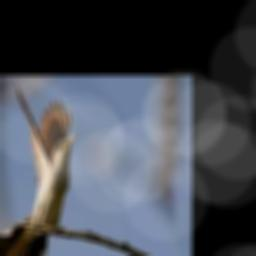Cuckoo: (0, 83, 76, 256)
